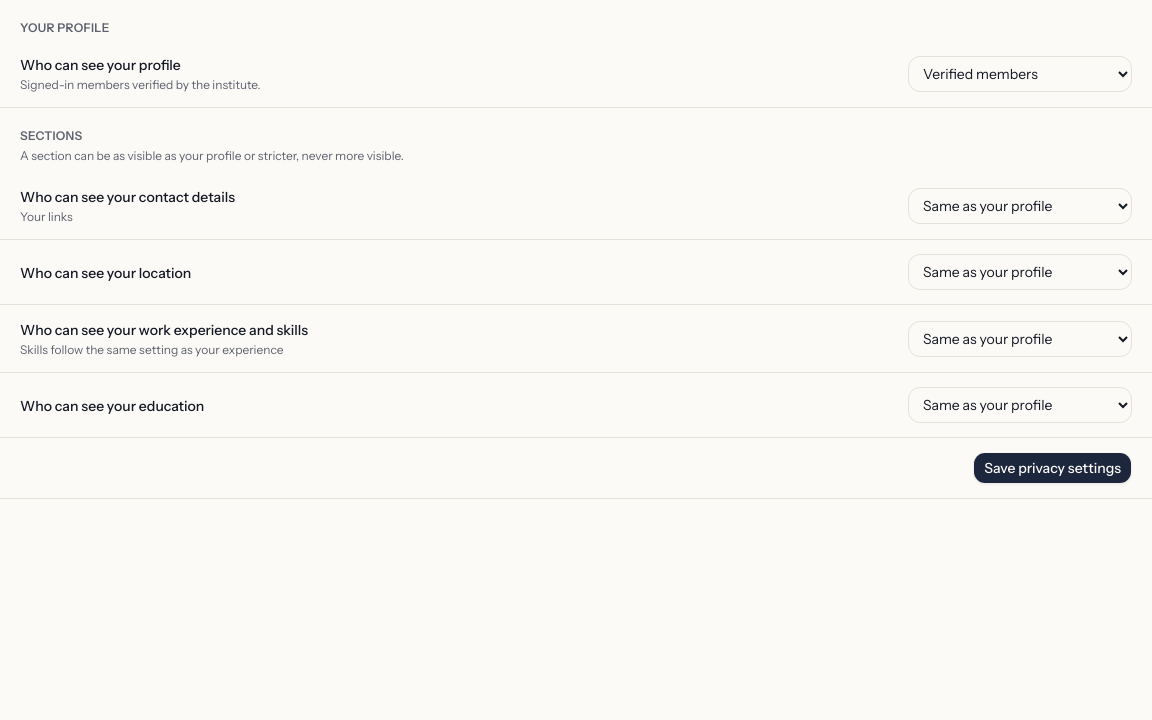
Test: PrivacyForm › shows the field error the action returns, on the right section
The width and height of the screenshot is (1152, 720).
Click the button "Save privacy settings". click: (1053, 468)
box: [973,452,1132,484]
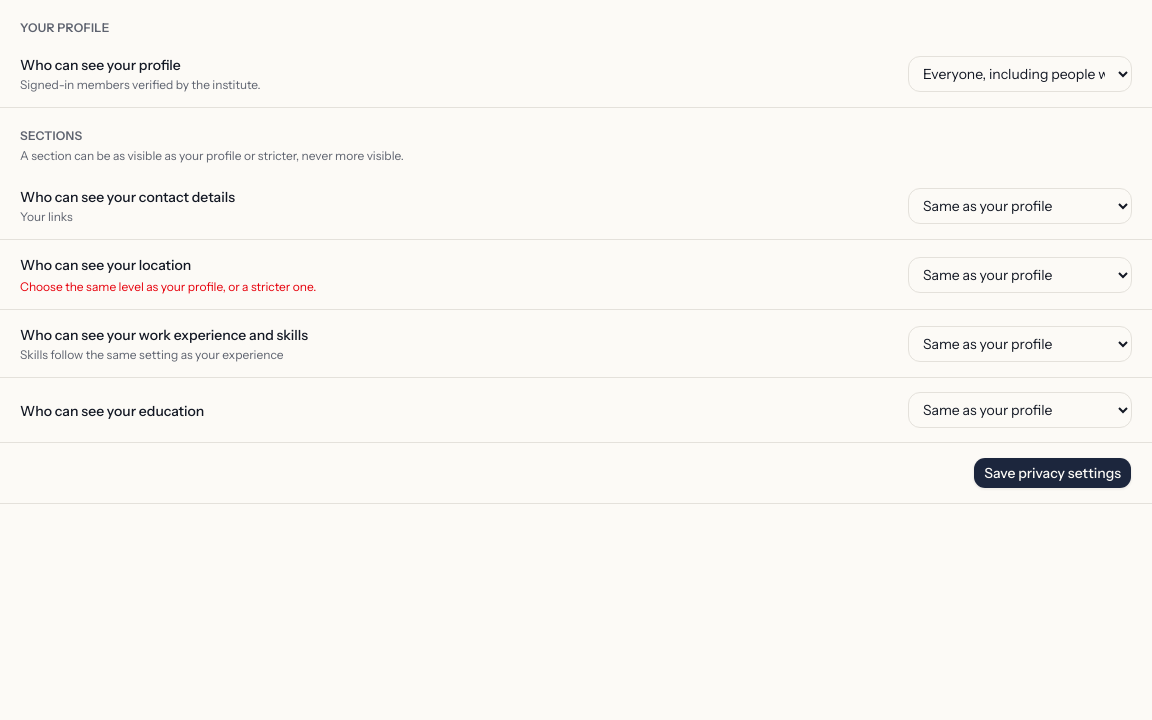
expect the text "Choose the same level as your profile, or a stricter one." is shown: met, box [20,279,316,295]
